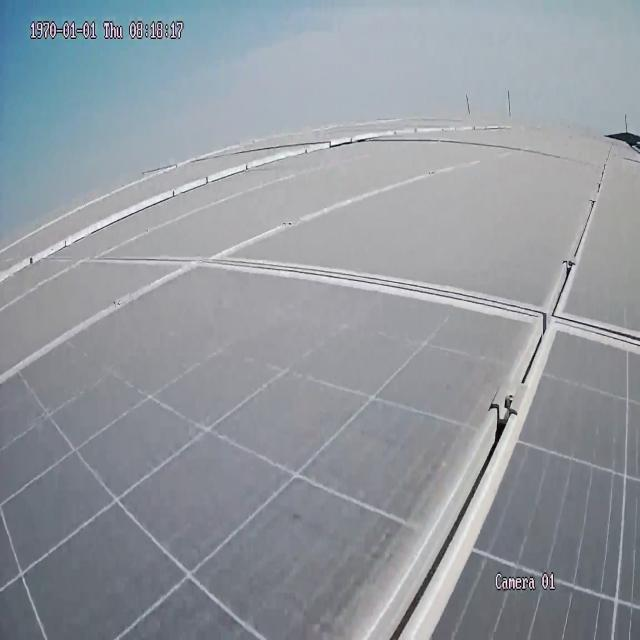interior panel: (219, 173, 640, 633)
